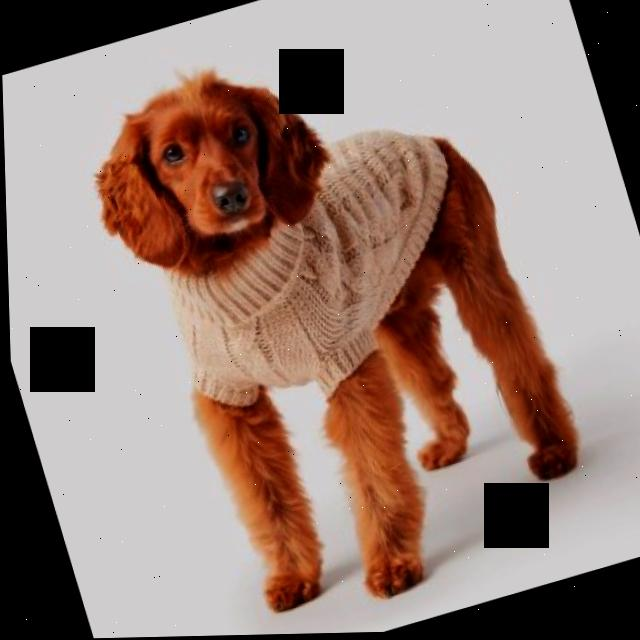cloth: (169, 133, 447, 407)
